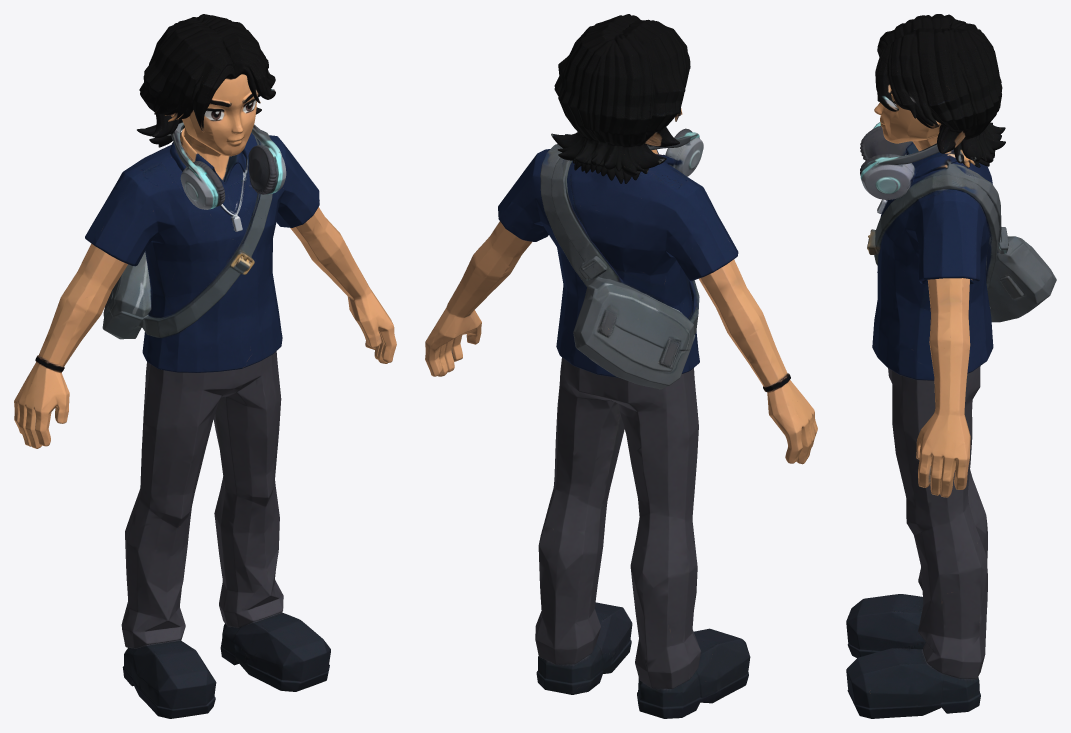
File: JejakAsa_MC_Original.glb
3 views of the same model, side by side, from view 1: azimuth 30°, elevation 25°; view 2: azimuth 150°, elevation 25°; view 3: azimuth 270°, elevation 25° (orthographic). The views are drawn at different scales.
Visible parts, largest first — view 1: JejakAsa_MC_Meshy; view 2: JejakAsa_MC_Meshy; view 3: JejakAsa_MC_Meshy.
Boxes of the visible parts, x1,y1,x2,y2 form: JejakAsa_MC_Meshy: (14,14,396,718); JejakAsa_MC_Meshy: (425,14,817,718); JejakAsa_MC_Meshy: (846,14,1056,718).
Size of the model in its own units: 1.01 by 1.7 by 0.4959.
1 material, 1 textured.
